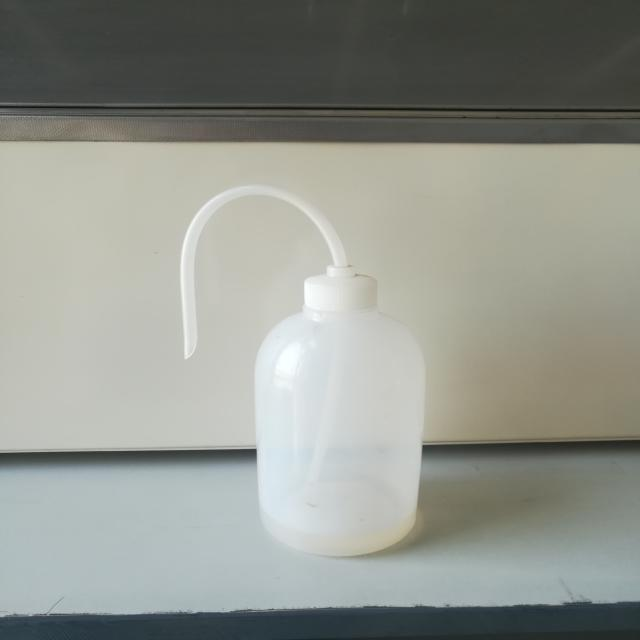Wash_Bottle: (144, 158, 462, 588)
